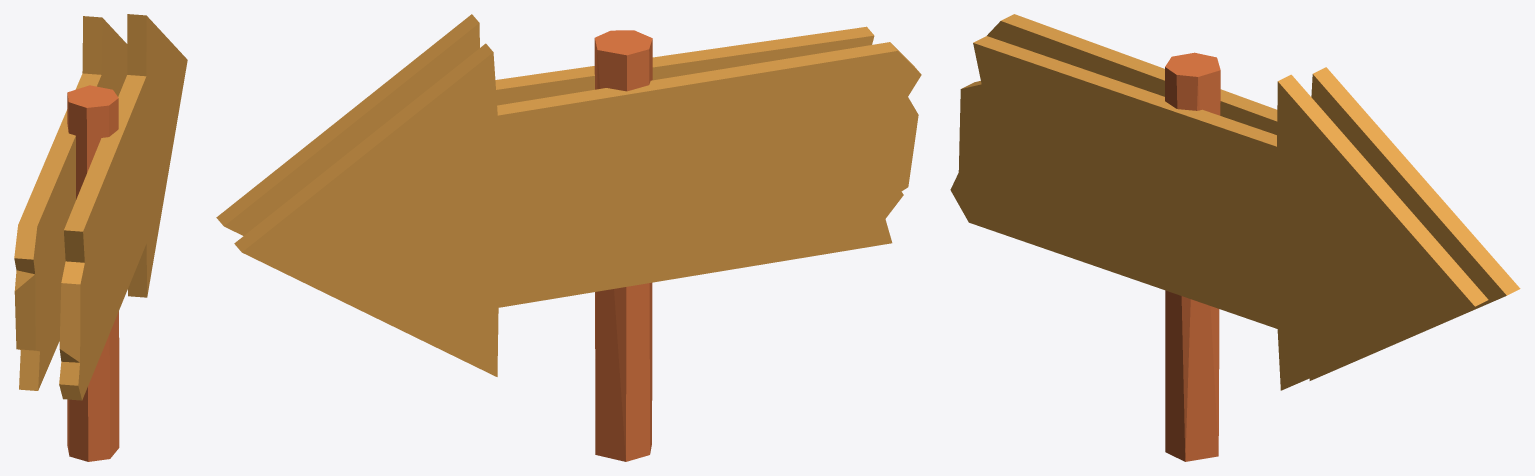
Rendered from Arrow.glb.
3 renders of one model, left to right at view 1: azimuth 30°, elevation 25°; view 2: azimuth 150°, elevation 25°; view 3: azimuth 270°, elevation 25°, orthographic. The views are drawn at different scales.
Visible parts, largest first — view 1: Arrow1; view 2: Arrow1; view 3: Arrow1.
Boxes of the visible parts, <box> form: Arrow1: <box>14,14,187,461</box>; Arrow1: <box>216,14,921,461</box>; Arrow1: <box>950,14,1520,461</box>.
Size of the model in its own units: 6.99 by 6.51 by 8.06.
